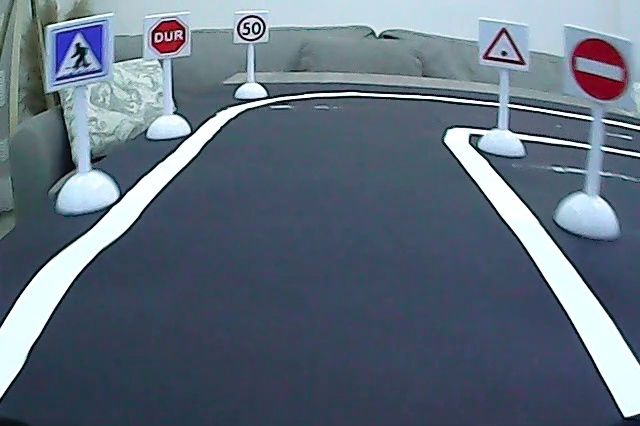do not enter: (564, 34, 633, 105)
green light: (480, 24, 529, 68)
pedestrian crossing: (50, 22, 108, 84)
speed limit 50: (236, 13, 267, 44)
stop sign: (149, 17, 189, 56)
